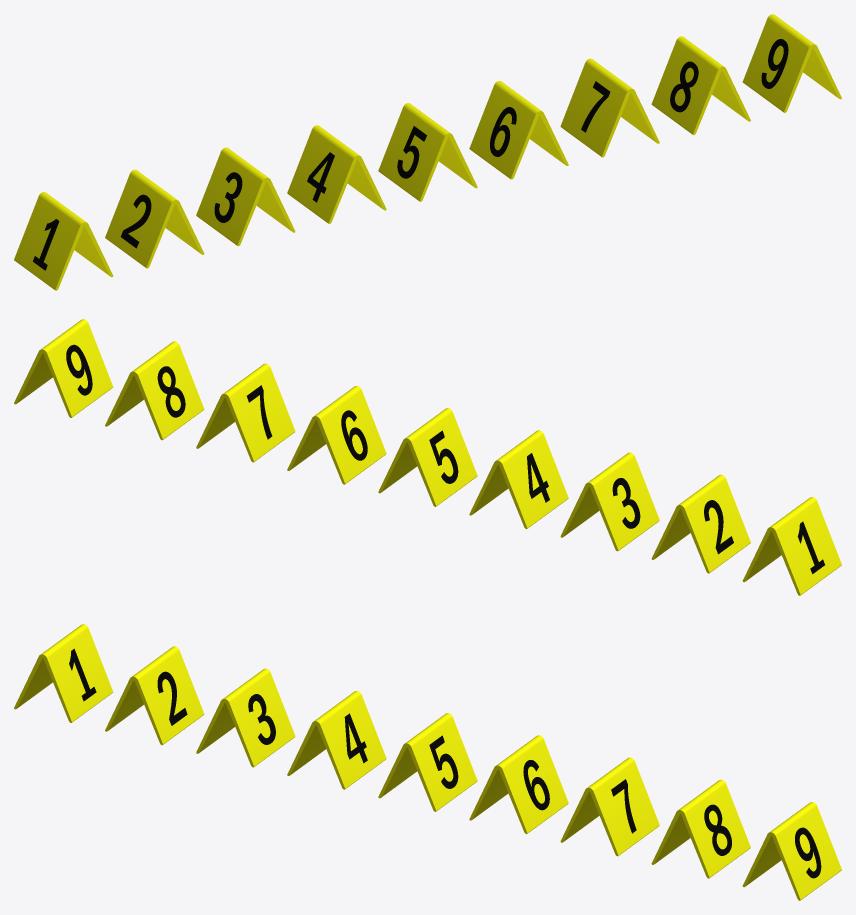
The model's file is EvidenceMarkers.fbx.
3 views of the same model, one above another, from view 1: azimuth 30°, elevation 25°; view 2: azimuth 150°, elevation 25°; view 3: azimuth 330°, elevation 25° (orthographic).
Visible parts, largest first — view 1: evidence_marker_8, evidence_marker_7, evidence_marker_9, evidence_marker_2, evidence_marker_3, evidence_marker_5, evidence_marker_4, evidence_marker_6, evidence_marker_1; view 2: evidence_marker_8, evidence_marker_7, evidence_marker_9, evidence_marker_2, evidence_marker_3, evidence_marker_5, evidence_marker_4, evidence_marker_6, evidence_marker_1; view 3: evidence_marker_2, evidence_marker_1, evidence_marker_3, evidence_marker_5, evidence_marker_7, evidence_marker_8, evidence_marker_6, evidence_marker_4, evidence_marker_9.
Boxes of the visible parts, left/top/right/bottom form: evidence_marker_8: left=651, top=36, right=750, bottom=135; evidence_marker_7: left=560, top=58, right=659, bottom=157; evidence_marker_9: left=742, top=14, right=841, bottom=112; evidence_marker_2: left=105, top=169, right=204, bottom=268; evidence_marker_3: left=196, top=147, right=295, bottom=246; evidence_marker_5: left=378, top=103, right=477, bottom=201; evidence_marker_4: left=287, top=125, right=386, bottom=223; evidence_marker_6: left=469, top=81, right=568, bottom=179; evidence_marker_1: left=14, top=192, right=113, bottom=290; evidence_marker_8: left=105, top=341, right=204, bottom=440; evidence_marker_7: left=196, top=363, right=295, bottom=462; evidence_marker_9: left=14, top=319, right=113, bottom=417; evidence_marker_2: left=651, top=474, right=750, bottom=573; evidence_marker_3: left=560, top=452, right=659, bottom=551; evidence_marker_5: left=378, top=408, right=477, bottom=506; evidence_marker_4: left=469, top=430, right=568, bottom=528; evidence_marker_6: left=287, top=386, right=386, bottom=484; evidence_marker_1: left=742, top=497, right=841, bottom=595; evidence_marker_2: left=105, top=646, right=204, bottom=745; evidence_marker_1: left=14, top=624, right=113, bottom=722; evidence_marker_3: left=196, top=668, right=295, bottom=767; evidence_marker_5: left=378, top=713, right=477, bottom=811; evidence_marker_7: left=560, top=757, right=659, bottom=856; evidence_marker_8: left=651, top=779, right=750, bottom=878; evidence_marker_6: left=469, top=735, right=568, bottom=833; evidence_marker_4: left=287, top=691, right=386, bottom=789; evidence_marker_9: left=742, top=802, right=841, bottom=900.
Size of the model in its own units: 259 by 19.4 by 23.6.
